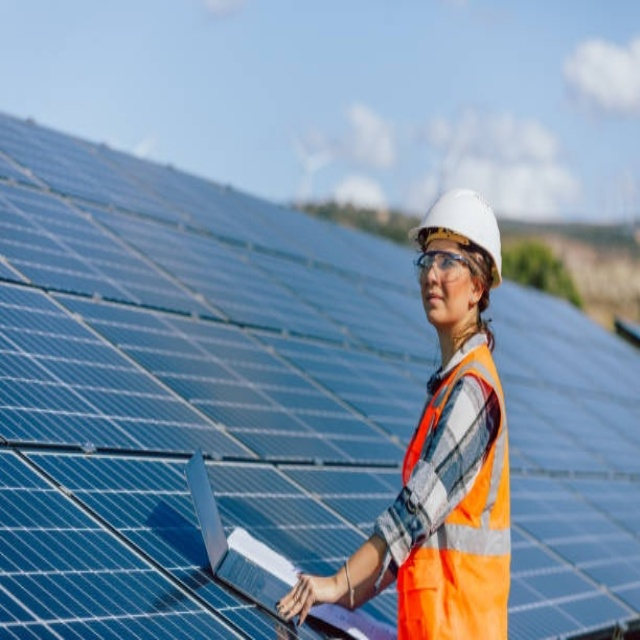Gafas: (413, 250, 479, 283)
Sin_guantes: (275, 571, 324, 627)
Sin_mascara: (422, 287, 447, 323)
